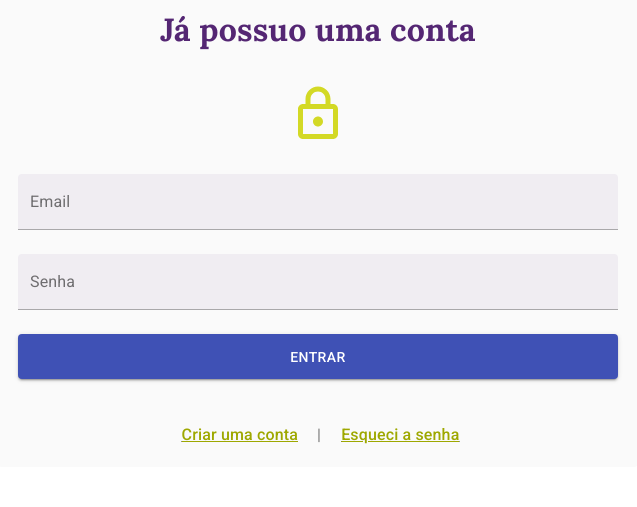
Test case: should show a label error when click in 'Entrar' button without fill the email
This screenshot has width=637, height=507.
Click the button with id "login-button" at {"x": 318, "y": 357}, box left=18, top=334, right=618, bottom=379
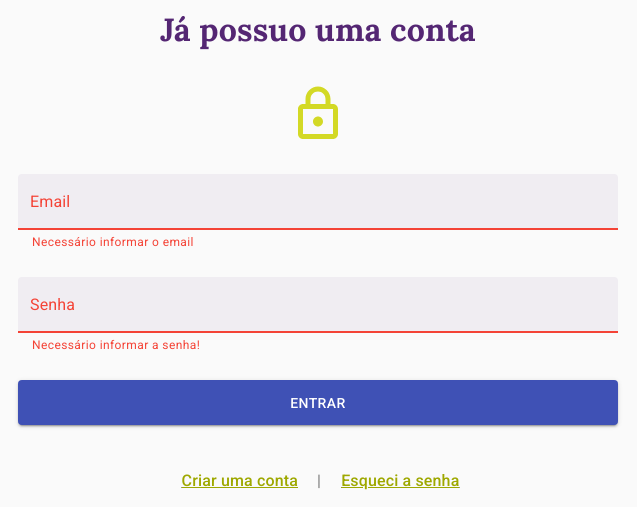
Result: the text "Necessário informar o email" is shown at left=32, top=235, right=194, bottom=249
